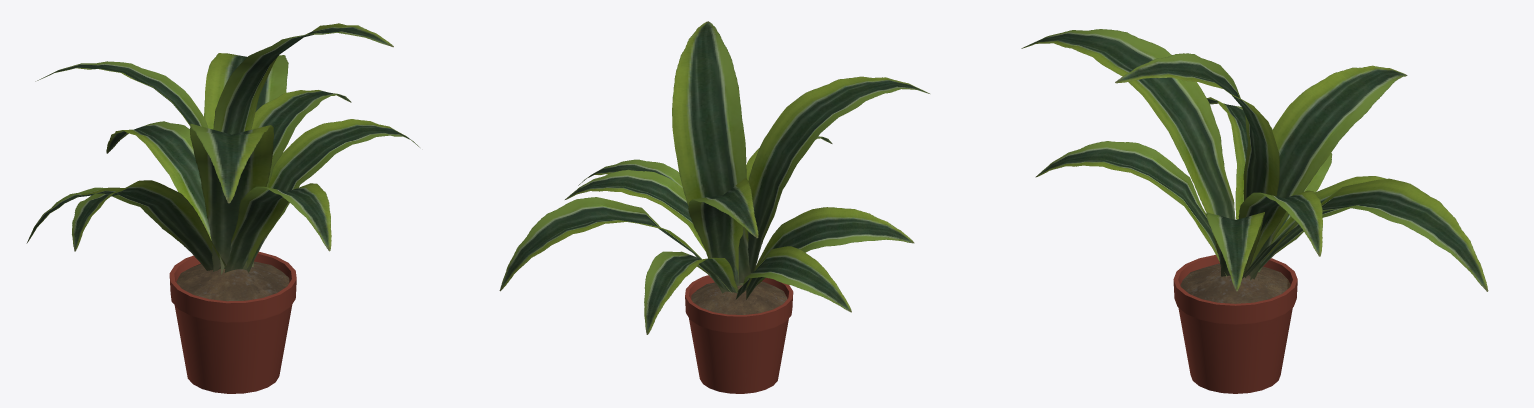
Rendered from plant_1.glb.
3 views of the same model, side by side, from view 1: azimuth 30°, elevation 25°; view 2: azimuth 150°, elevation 25°; view 3: azimuth 270°, elevation 25° (orthographic). The views are drawn at different scales.
Parts seen in each view (by area): view 1: plant_1; view 2: plant_1; view 3: plant_1.
Part boxes in pixels (x1=…): plant_1: x1=26, y1=23, x2=419, y2=393; plant_1: x1=499, y1=21, x2=929, y2=393; plant_1: x1=1021, y1=29, x2=1488, y2=393.
Size of the model in its own units: 1.14 by 1 by 1.36.
Materials: 1 (1 with a texture image).
